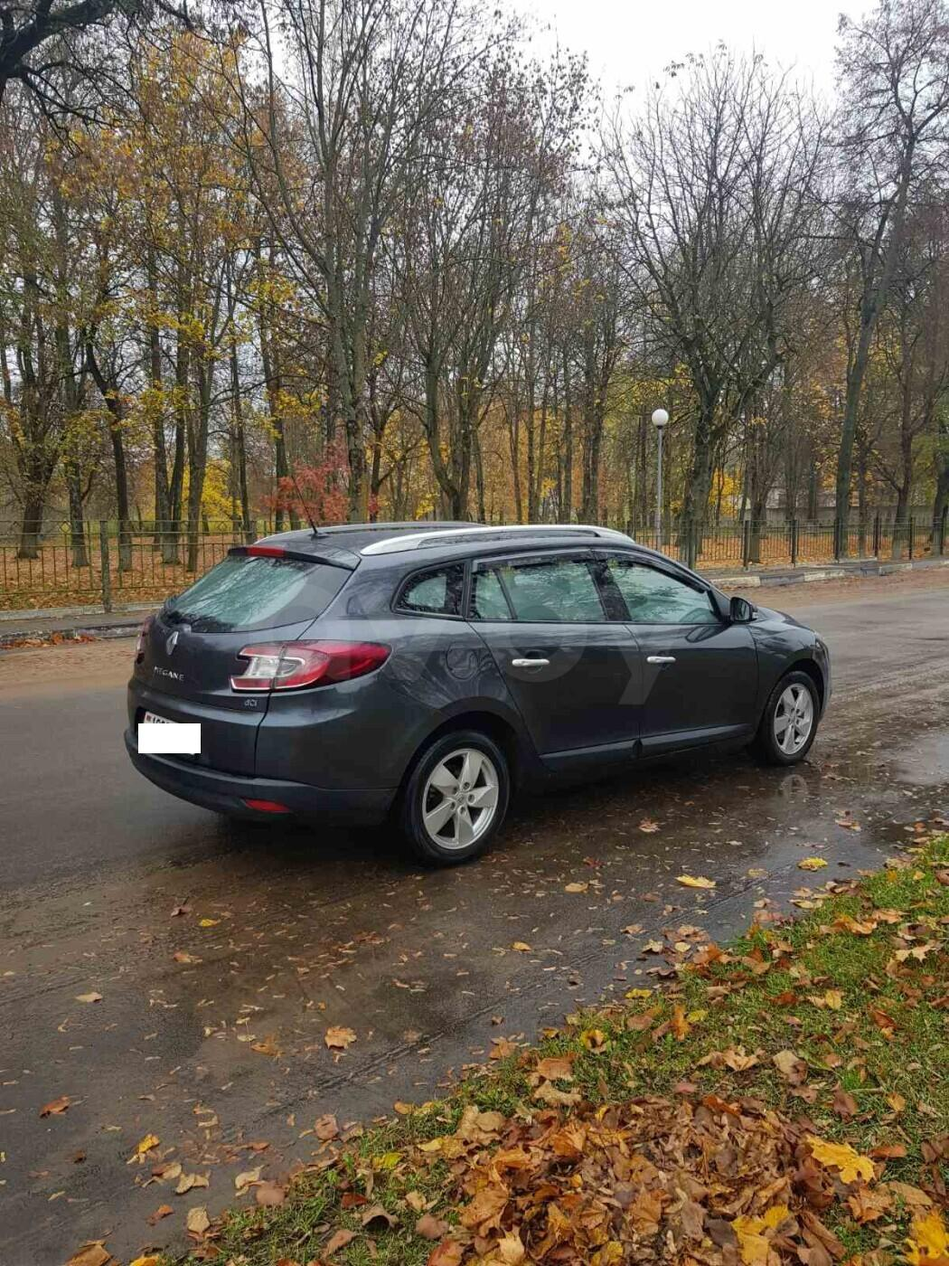Megane_2008-2014: (116, 512, 855, 875)
